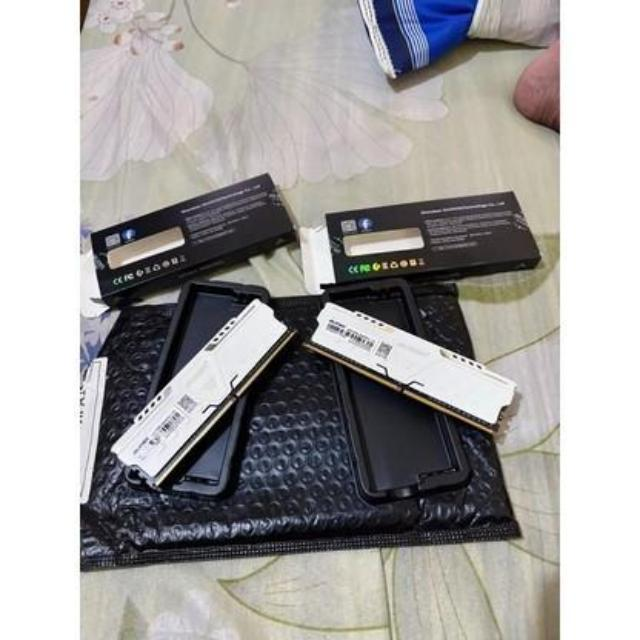RAM: (108, 289, 298, 494), (301, 296, 521, 436)
